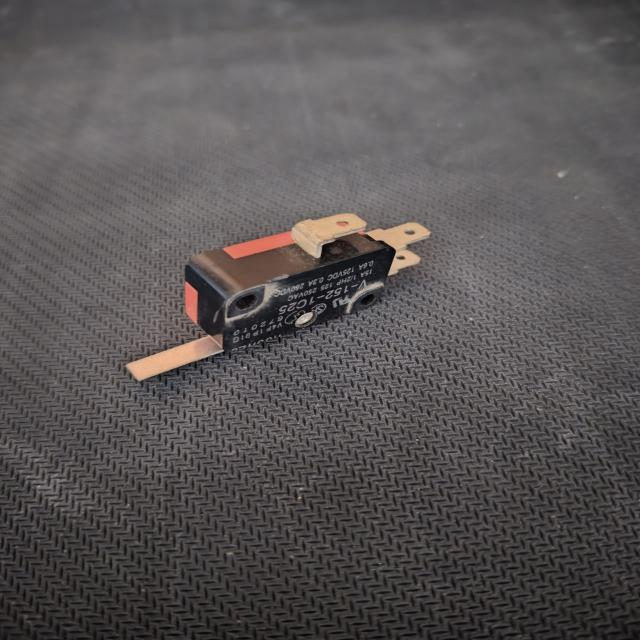switch: (121, 205, 464, 387)
